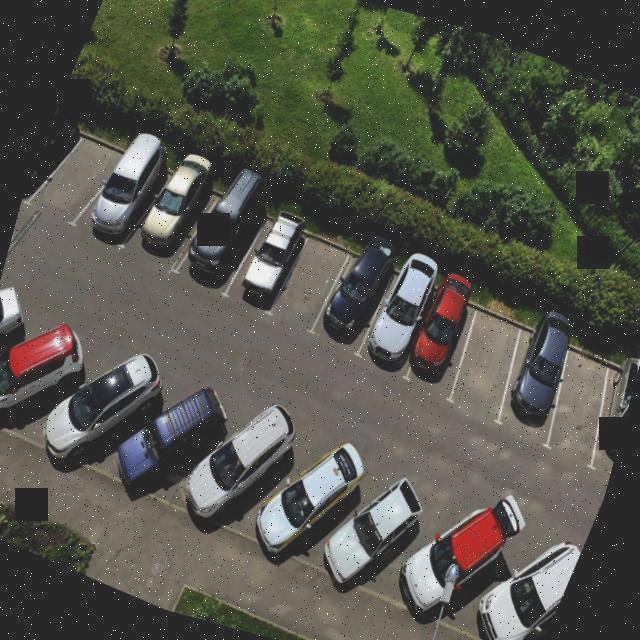space-empty: (442, 296, 534, 426), (33, 120, 127, 243), (538, 342, 631, 465), (268, 226, 358, 344)
space-occupied: (391, 269, 496, 407), (483, 315, 588, 450), (81, 134, 175, 259), (127, 157, 222, 277), (310, 237, 399, 364), (176, 188, 264, 304), (356, 258, 440, 377), (222, 207, 309, 321), (577, 356, 640, 483)
